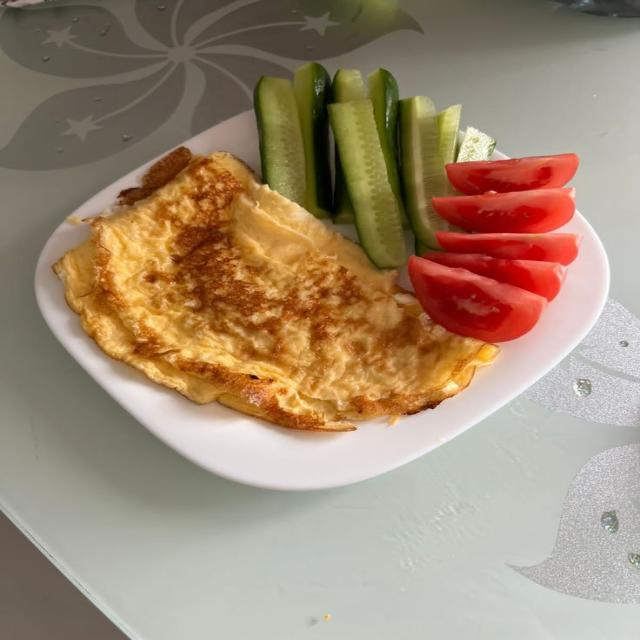omelette: (54, 149, 497, 431)
